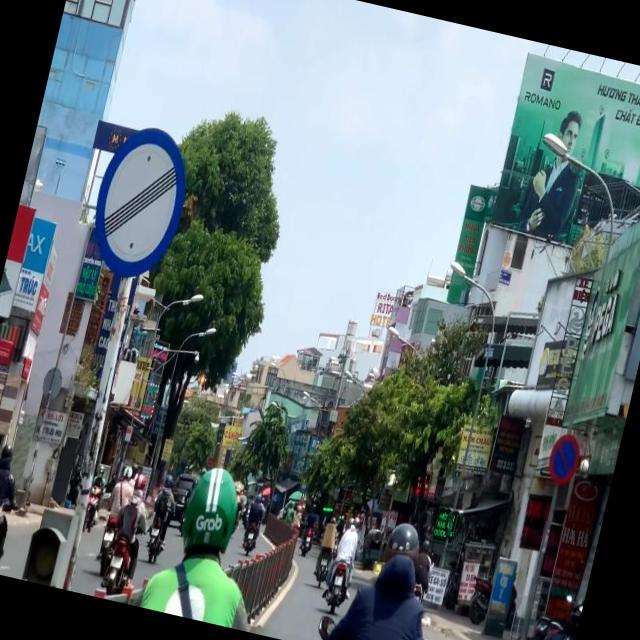DP-135: (82, 118, 192, 284)
P-131a: (546, 430, 584, 486)
